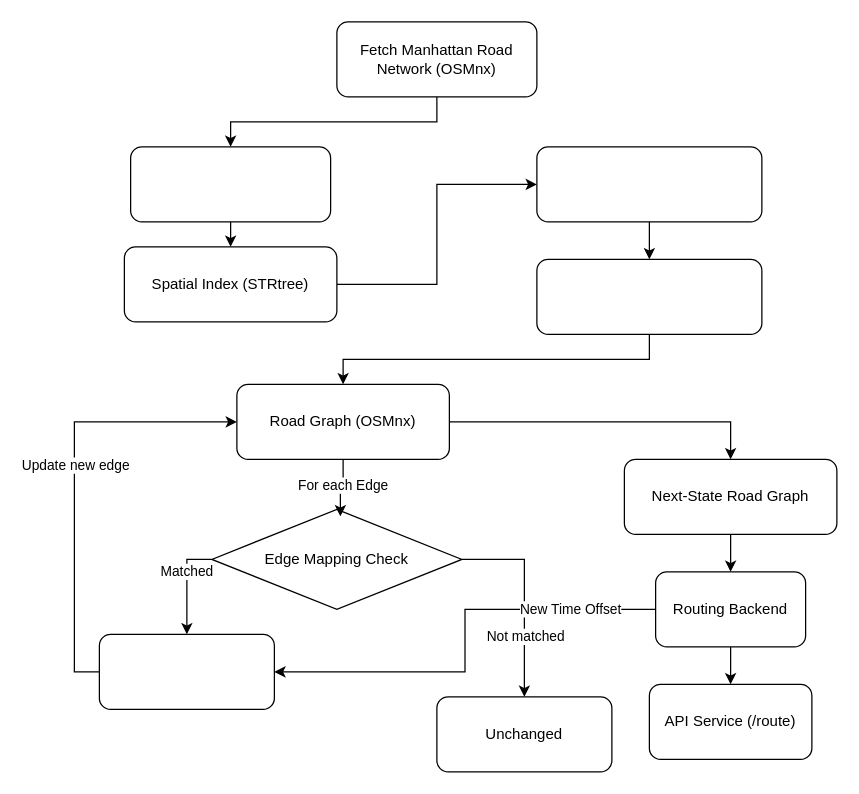
The diagram is 859 pixels wide and 794 high, and some of its shapes have lost their labels. The centre of each missing label's shape, as x and y in pixels:
"Graph Preprocessing" goes at pixel 230 184.
"HERE Traffic Flow API" goes at pixel 649 184.
"Random Forest Prediction" goes at pixel 186 671.
"Traffic–Edge Matching" goes at pixel 649 296.
